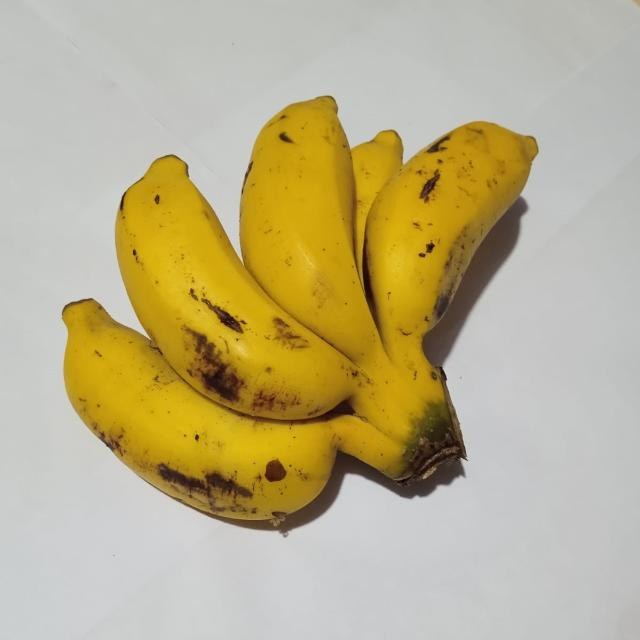banana: (240, 97, 464, 474), (63, 299, 404, 523), (116, 156, 353, 419), (365, 122, 537, 375), (240, 97, 379, 365), (352, 130, 403, 285)
